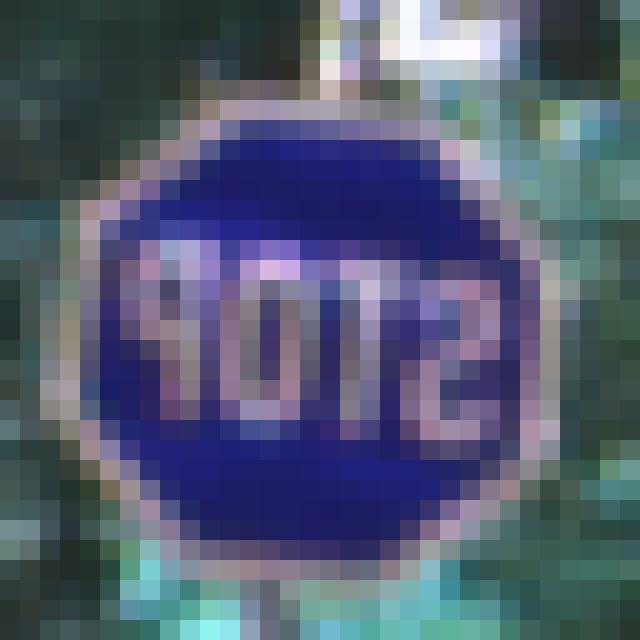STOP: (82, 121, 539, 558)
